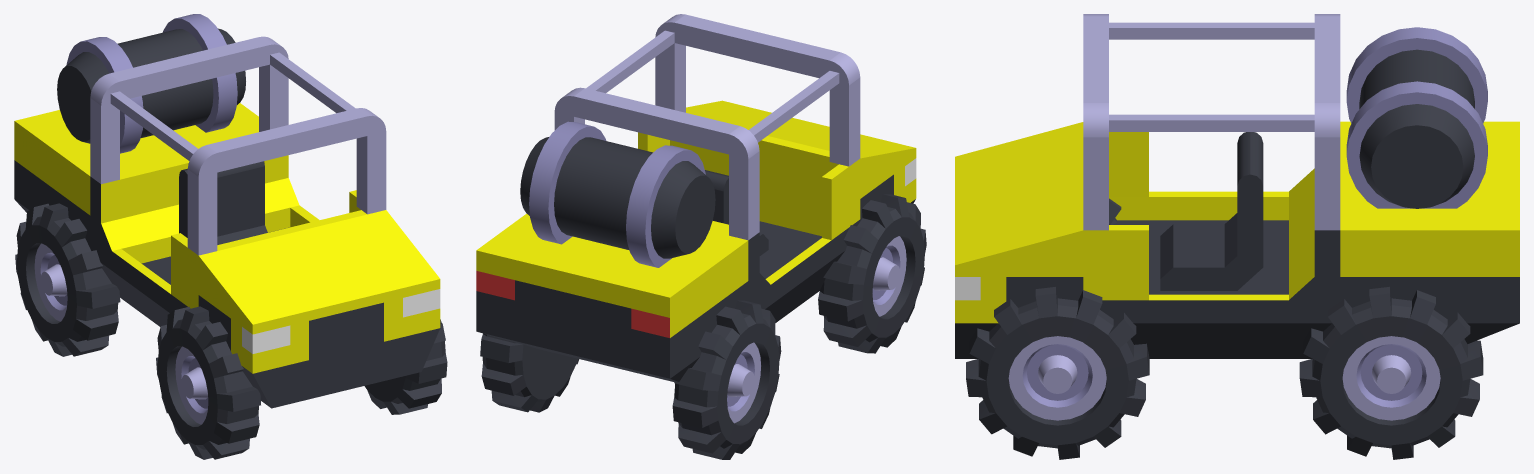
The model's file is ycar.fbx.
3 renders of one model, left to right at view 1: azimuth 30°, elevation 25°; view 2: azimuth 150°, elevation 25°; view 3: azimuth 270°, elevation 25°, orthographic. The views are drawn at different scales.
Parts seen in each view (by area): view 1: body_frontTruckShort, wheel_ridges (×3), detail_rollbarLarge, body_suv, detail_tank, body_backSolid, detail_seat; view 2: body_backSolid, wheel_ridges (×3), detail_rollbarLarge, detail_tank, body_suv, body_frontTruckShort, detail_seat; view 3: wheel_ridges (×2), body_suv, body_backSolid, detail_tank, body_frontTruckShort, detail_rollbarLarge, detail_seat.
Part boxes in pixels (box(x1,y1,x2,y2)): body_frontTruckShort: box(198, 210, 440, 408); wheel_ridges (×3): box(15, 203, 447, 459); detail_rollbarLarge: box(90, 36, 386, 255); body_suv: box(90, 154, 366, 326); detail_tank: box(57, 14, 245, 153); body_backSolid: box(14, 103, 258, 247); detail_seat: box(179, 161, 267, 244); body_backSolid: box(476, 213, 748, 381); wheel_ridges (×3): box(480, 194, 926, 459); detail_rollbarLarge: box(554, 14, 860, 240); detail_tank: box(520, 121, 715, 267); body_suv: box(638, 132, 860, 322); body_frontTruckShort: box(686, 100, 916, 220); detail_seat: box(705, 170, 768, 255); wheel_ridges (×2): box(966, 286, 1483, 459); body_suv: box(1083, 132, 1340, 358); body_backSolid: box(1340, 121, 1519, 343); detail_tank: box(1346, 27, 1487, 208); body_frontTruckShort: box(955, 122, 1083, 358); detail_rollbarLarge: box(1083, 14, 1340, 230); detail_seat: box(1160, 132, 1263, 290).
Bounding box in the file's own units: 12.16 × 14.58 × 22.
